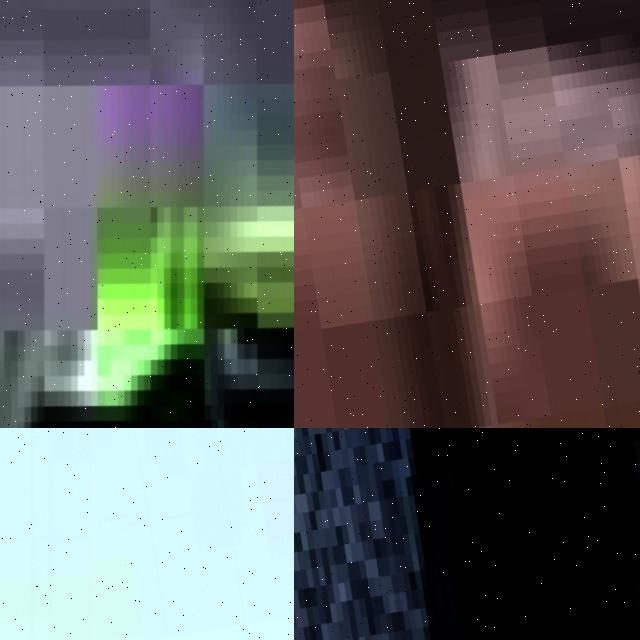0: (0, 0, 294, 428)
drone: (0, 428, 159, 640)
